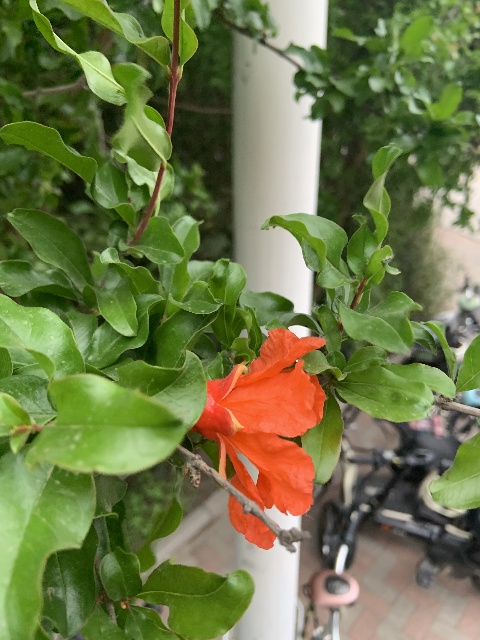flower: (191, 326, 326, 547)
